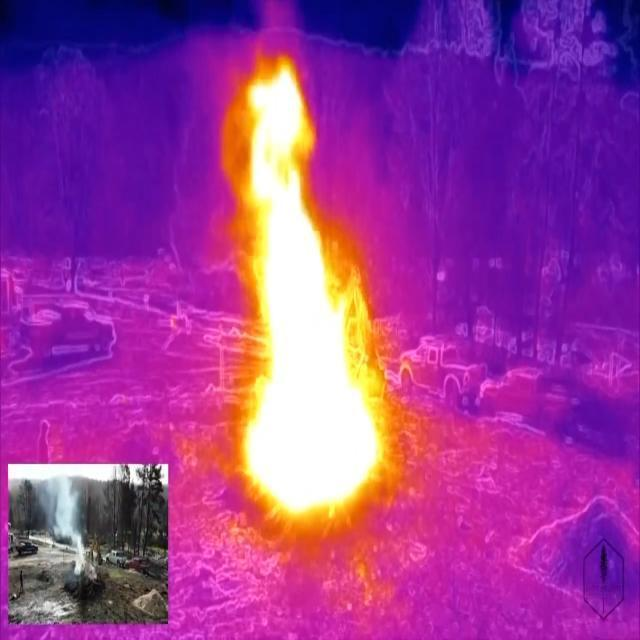fire: (244, 58, 385, 523)
